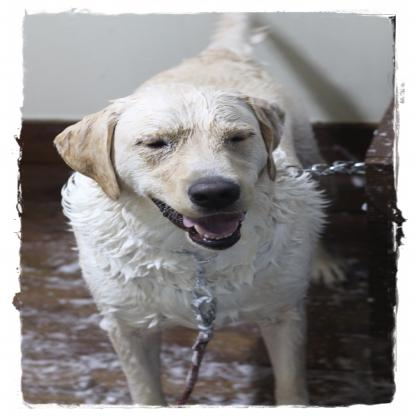dog: (41, 39, 350, 398)
